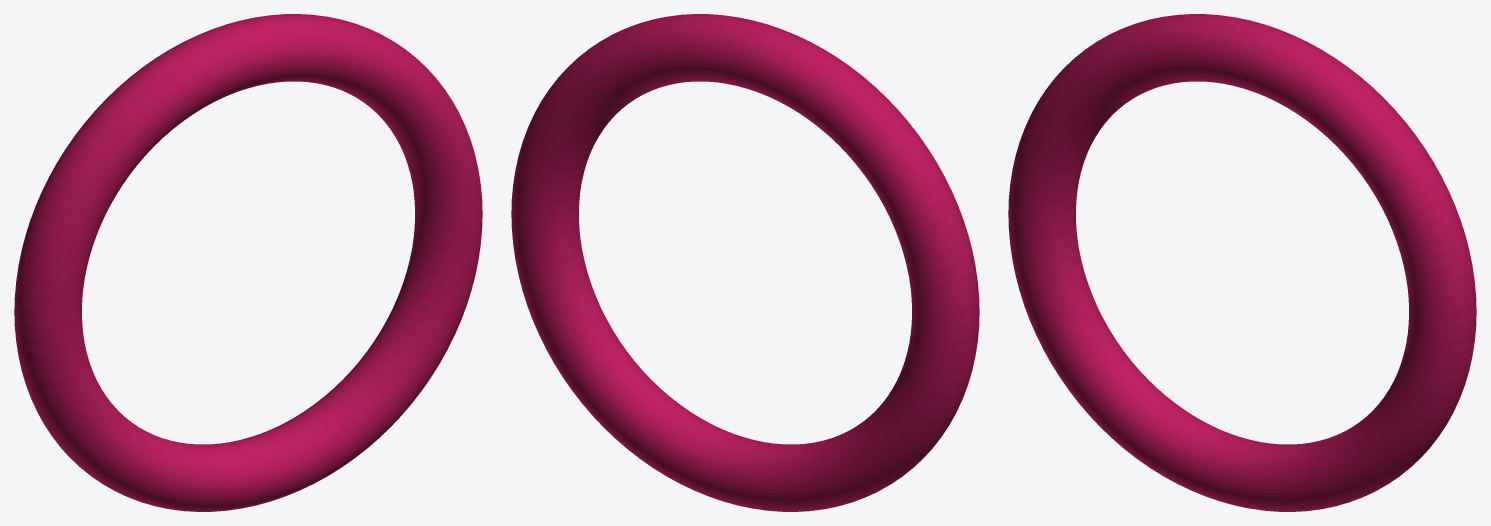
3 views of the same model, side by side, from view 1: azimuth 30°, elevation 25°; view 2: azimuth 150°, elevation 25°; view 3: azimuth 330°, elevation 25° (orthographic).
Parts seen in each view (by area): view 1: world; view 2: world; view 3: world.
Boxes of the visible parts, <box> form: world: <box>14,14,482,511</box>; world: <box>511,14,979,511</box>; world: <box>1008,14,1476,511</box>.
Size of the model in its own units: 28.27 by 28.27 by 3.59.
